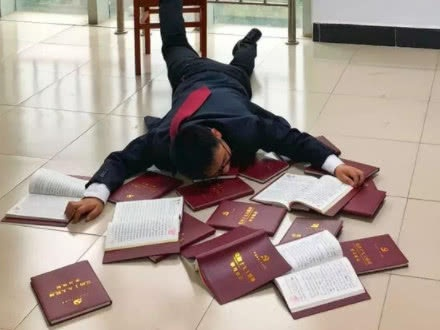falling: (55, 0, 374, 227)
